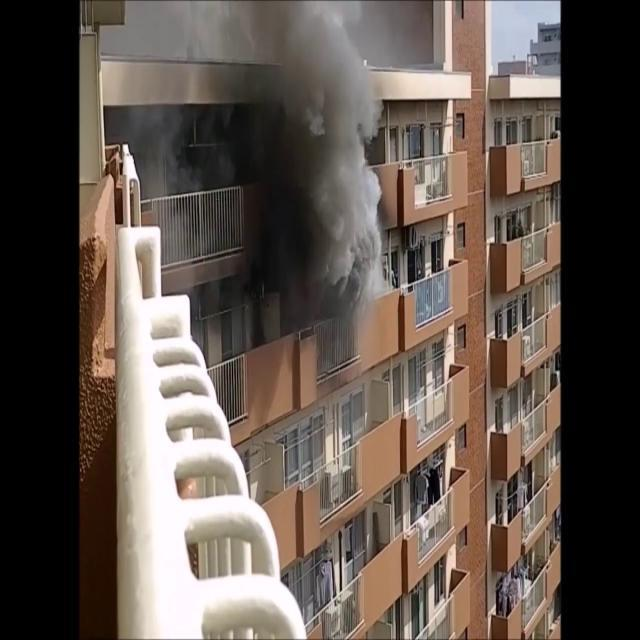Smoke: (132, 1, 388, 344)
